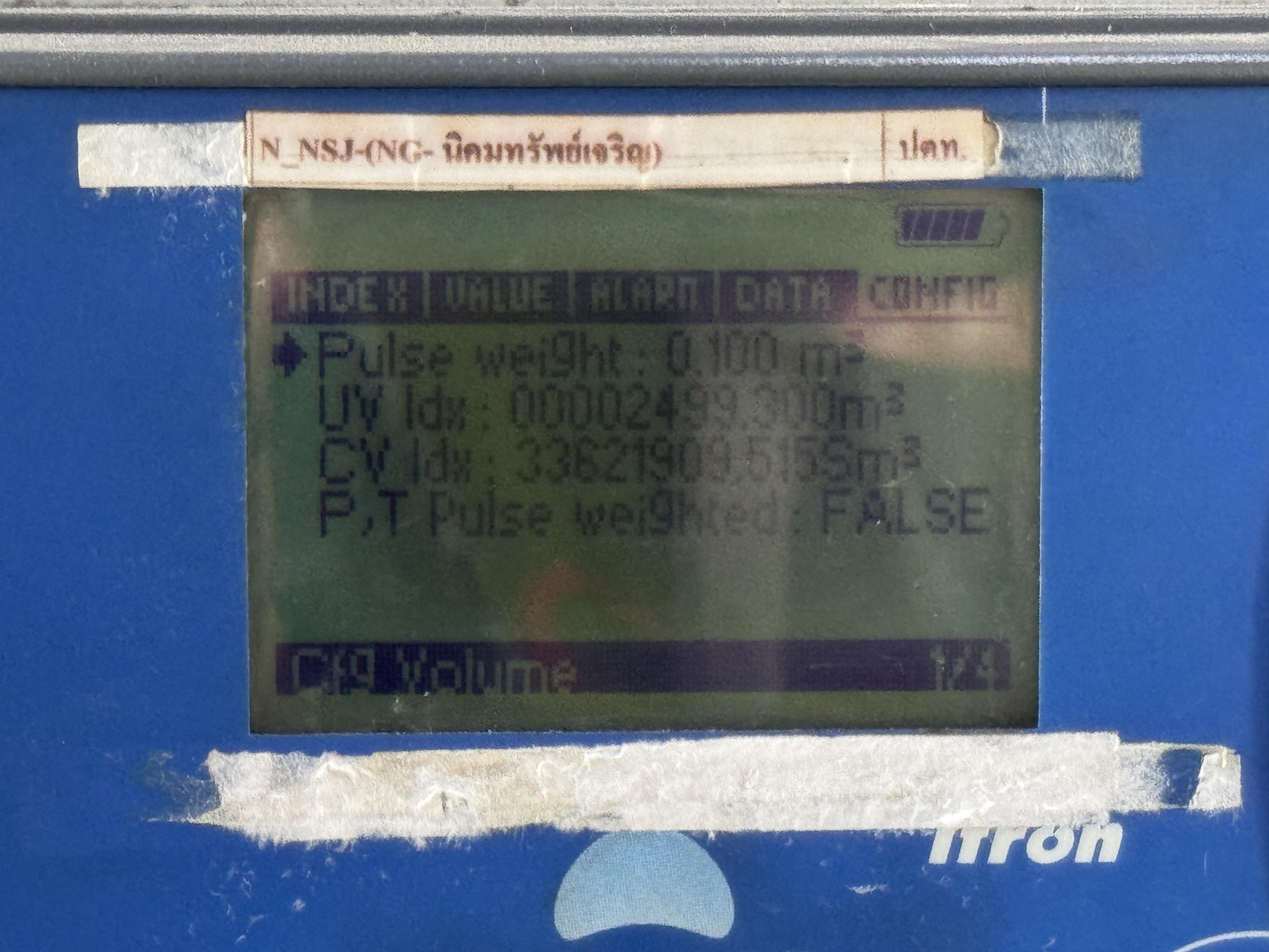digital_screen: (247, 186, 1044, 733)
